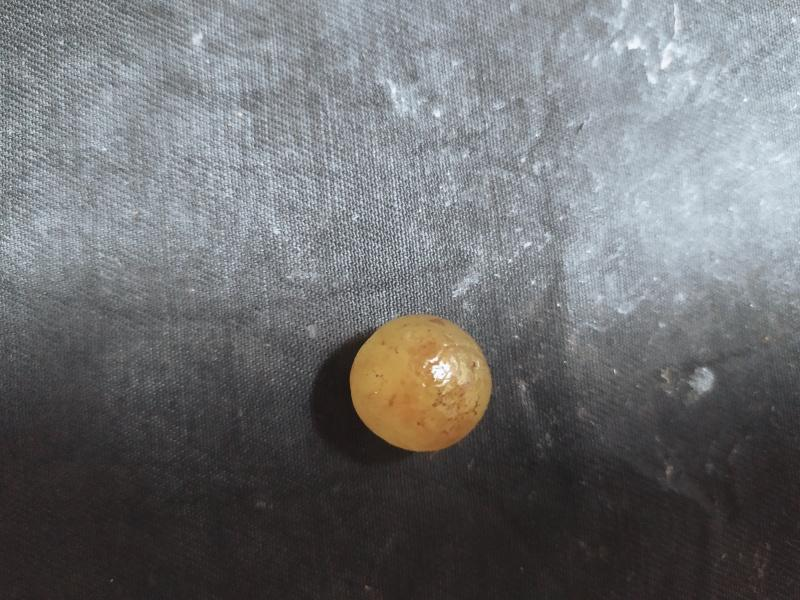Grape Rotten: (346, 310, 494, 456)
